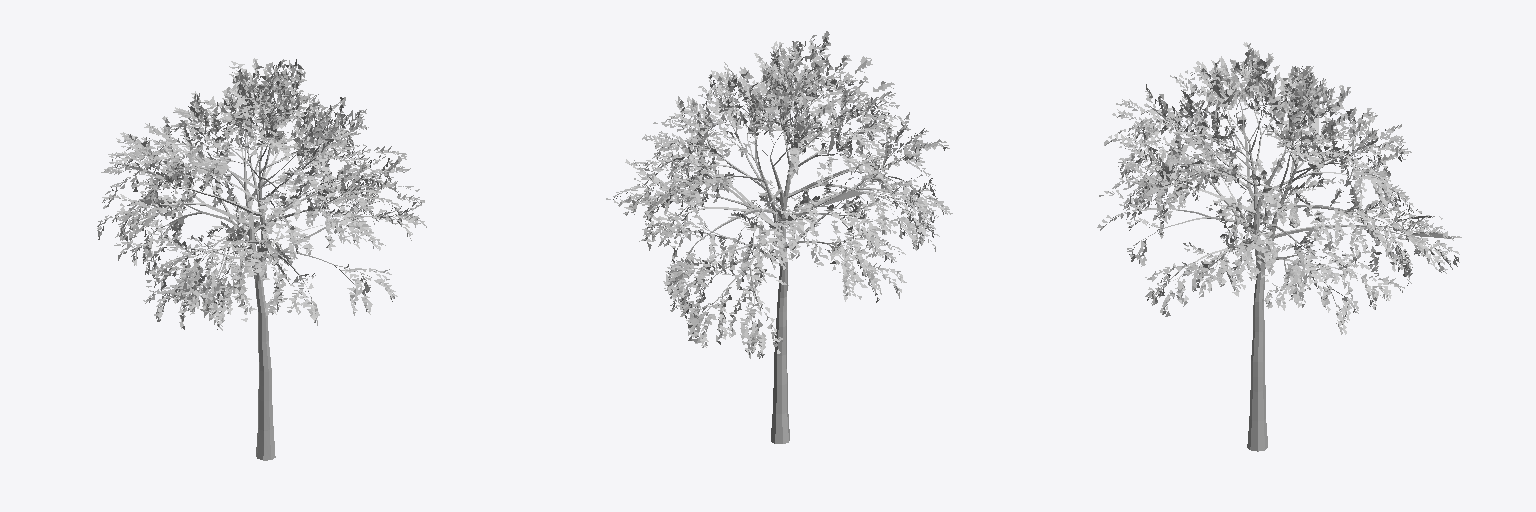
Rendered from arbol1.obj.
3 renders of one model, left to right at view 1: azimuth 30°, elevation 25°; view 2: azimuth 150°, elevation 25°; view 3: azimuth 270°, elevation 25°, orthographic.
Visible parts, largest first — view 1: leaves_Material_Leaves, GenTree_Main_Trunk_Material_Trunk_and_Primary_Limbs, GenTree___Twigs_Leaf_Bearing_Material_Twigs; view 2: leaves_Material_Leaves, GenTree_Main_Trunk_Material_Trunk_and_Primary_Limbs, GenTree___Twigs_Leaf_Bearing_Material_Twigs; view 3: leaves_Material_Leaves, GenTree_Main_Trunk_Material_Trunk_and_Primary_Limbs, GenTree___Twigs_Leaf_Bearing_Material_Twigs.
Boxes of the visible parts, x1,y1,x2,y2 form: leaves_Material_Leaves: [97, 58, 426, 330]; GenTree_Main_Trunk_Material_Trunk_and_Primary_Limbs: [123, 87, 389, 460]; GenTree___Twigs_Leaf_Bearing_Material_Twigs: [115, 75, 399, 311]; leaves_Material_Leaves: [606, 31, 952, 358]; GenTree_Main_Trunk_Material_Trunk_and_Primary_Limbs: [651, 75, 921, 443]; GenTree___Twigs_Leaf_Bearing_Material_Twigs: [638, 51, 934, 336]; leaves_Material_Leaves: [1097, 42, 1461, 334]; GenTree_Main_Trunk_Material_Trunk_and_Primary_Limbs: [1141, 85, 1428, 451]; GenTree___Twigs_Leaf_Bearing_Material_Twigs: [1118, 68, 1453, 311].
Bounding box in the file's own units: 13.2 × 16.84 × 14.54.